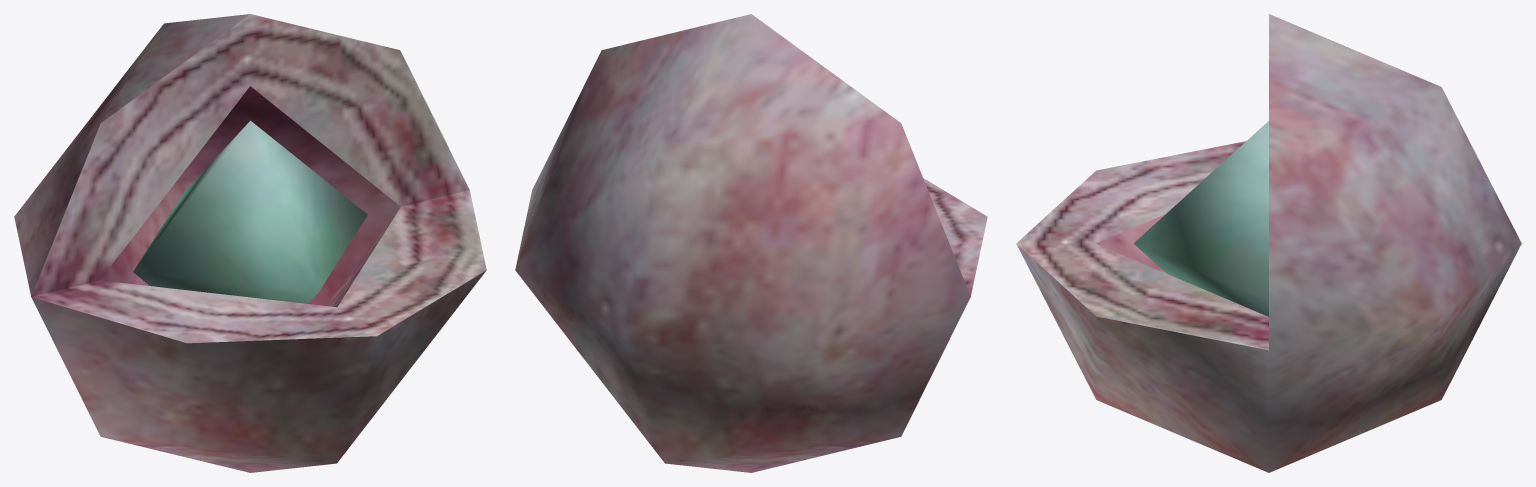
Rendered from eqp_eyes_of_mesra_l1.fbx.
The picture shows the model from 3 angles, left to right: view 1: azimuth 30°, elevation 25°; view 2: azimuth 150°, elevation 25°; view 3: azimuth 270°, elevation 25°; orthographic projection.
Parts seen in each view (by area): view 1: mesh_node; view 2: mesh_node; view 3: mesh_node.
Boxes of the visible parts, x1,y1,x2,y2 form: mesh_node: (14, 14, 486, 472); mesh_node: (515, 14, 987, 472); mesh_node: (1016, 14, 1521, 472).
Size of the model in its own units: 0.086 by 0.086 by 0.086.
